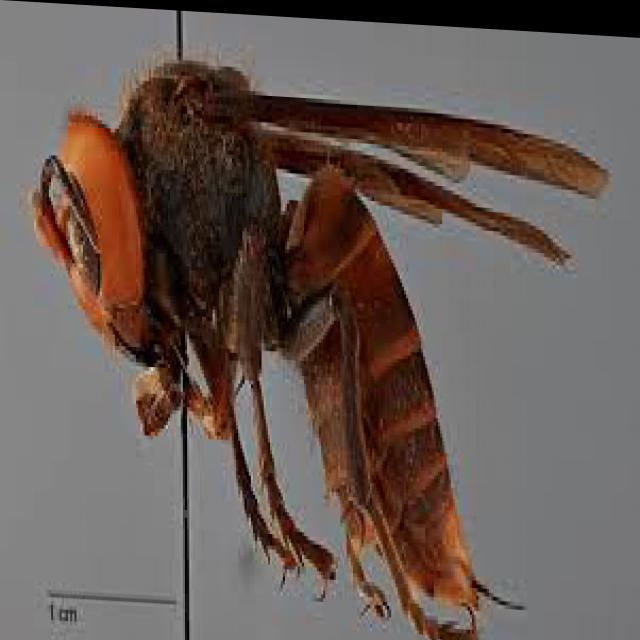Vespa Velutina: (21, 31, 615, 639)
